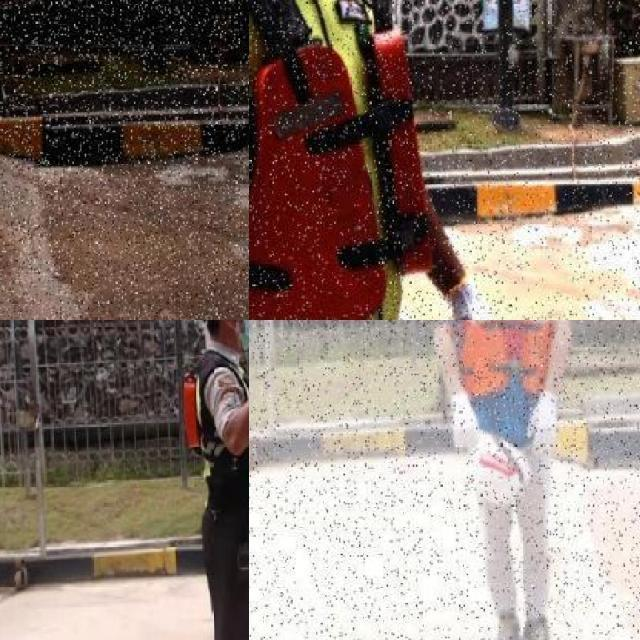apron: (436, 269, 530, 320), (526, 386, 558, 454), (448, 389, 478, 452)
